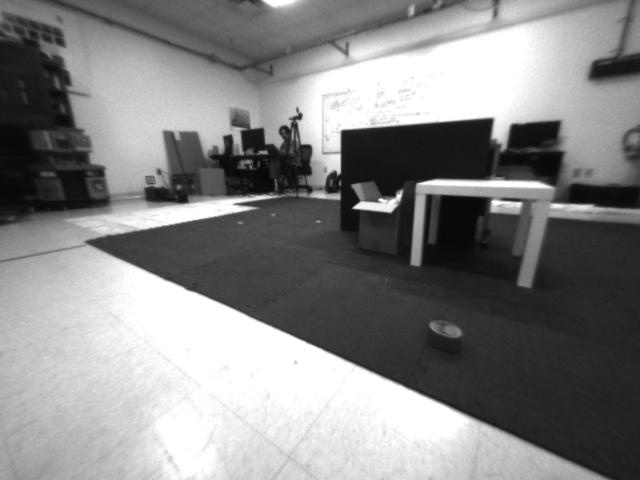dogtoy: (412, 301, 483, 371)
